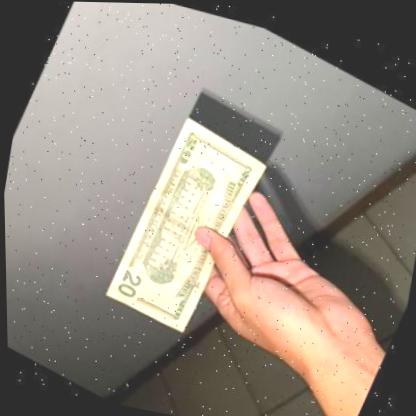twenty-back: (93, 95, 280, 351)
